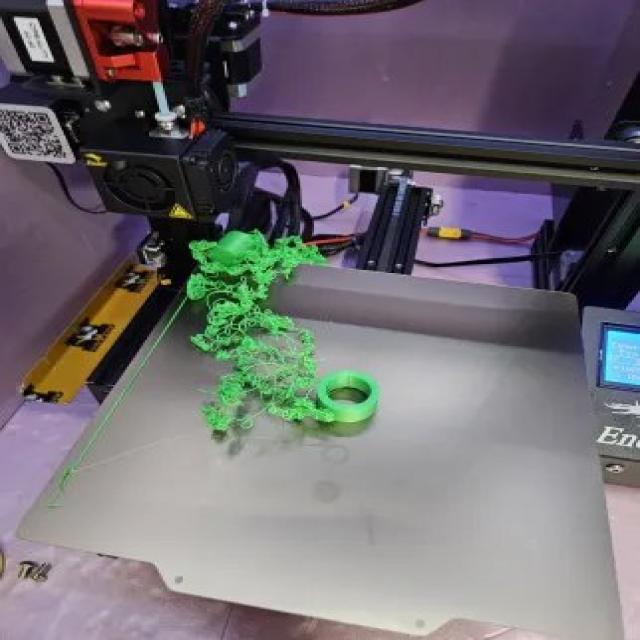spaghetti: (164, 217, 398, 458)
